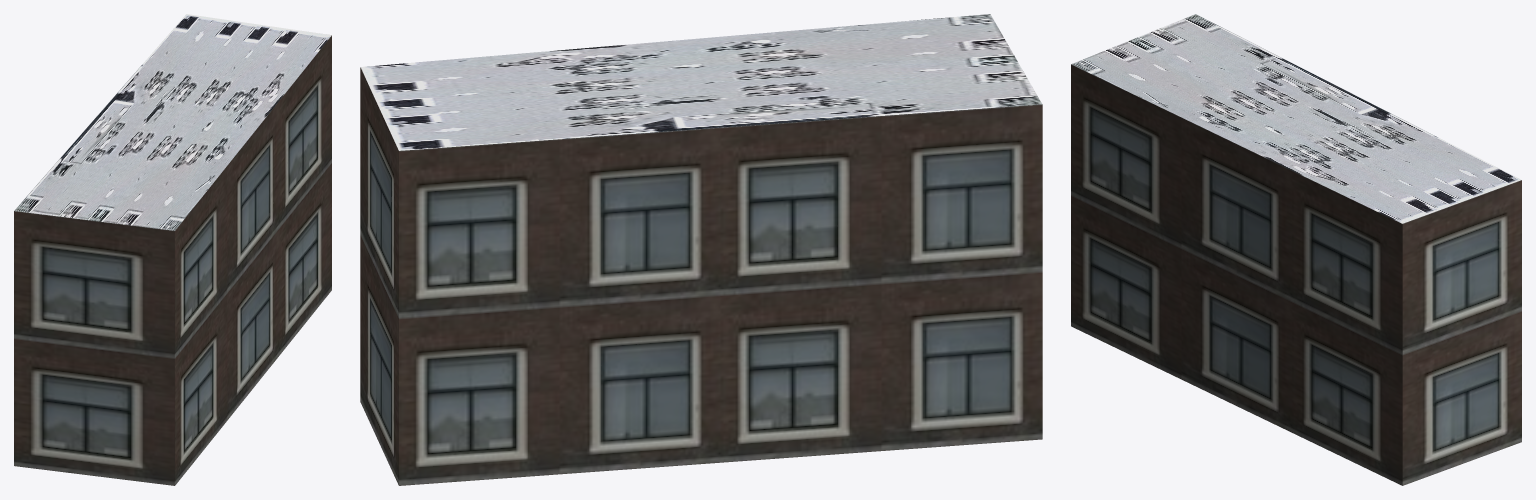
The model's file is ResTex__2758.fbx.
3 views of the same model, side by side, from view 1: azimuth 30°, elevation 25°; view 2: azimuth 150°, elevation 25°; view 3: azimuth 270°, elevation 25° (orthographic). The views are drawn at different scales.
Visible parts, largest first — view 1: CityEngineMaterial_16_m, CityEngineMaterial_15_m; view 2: CityEngineMaterial_16_m, CityEngineMaterial_15_m; view 3: CityEngineMaterial_16_m, CityEngineMaterial_15_m.
Boxes of the visible parts, x1=… form: CityEngineMaterial_16_m: x1=14, y1=35, x2=331, y2=485; CityEngineMaterial_15_m: x1=14, y1=14, x2=331, y2=230; CityEngineMaterial_16_m: x1=360, y1=67, x2=1042, y2=485; CityEngineMaterial_15_m: x1=360, y1=14, x2=1041, y2=150; CityEngineMaterial_16_m: x1=1071, y1=64, x2=1521, y2=485; CityEngineMaterial_15_m: x1=1071, y1=14, x2=1521, y2=223.
Bounding box in the file's own units: 10.31 × 6 × 9.35.
2 materials, 2 textured.
